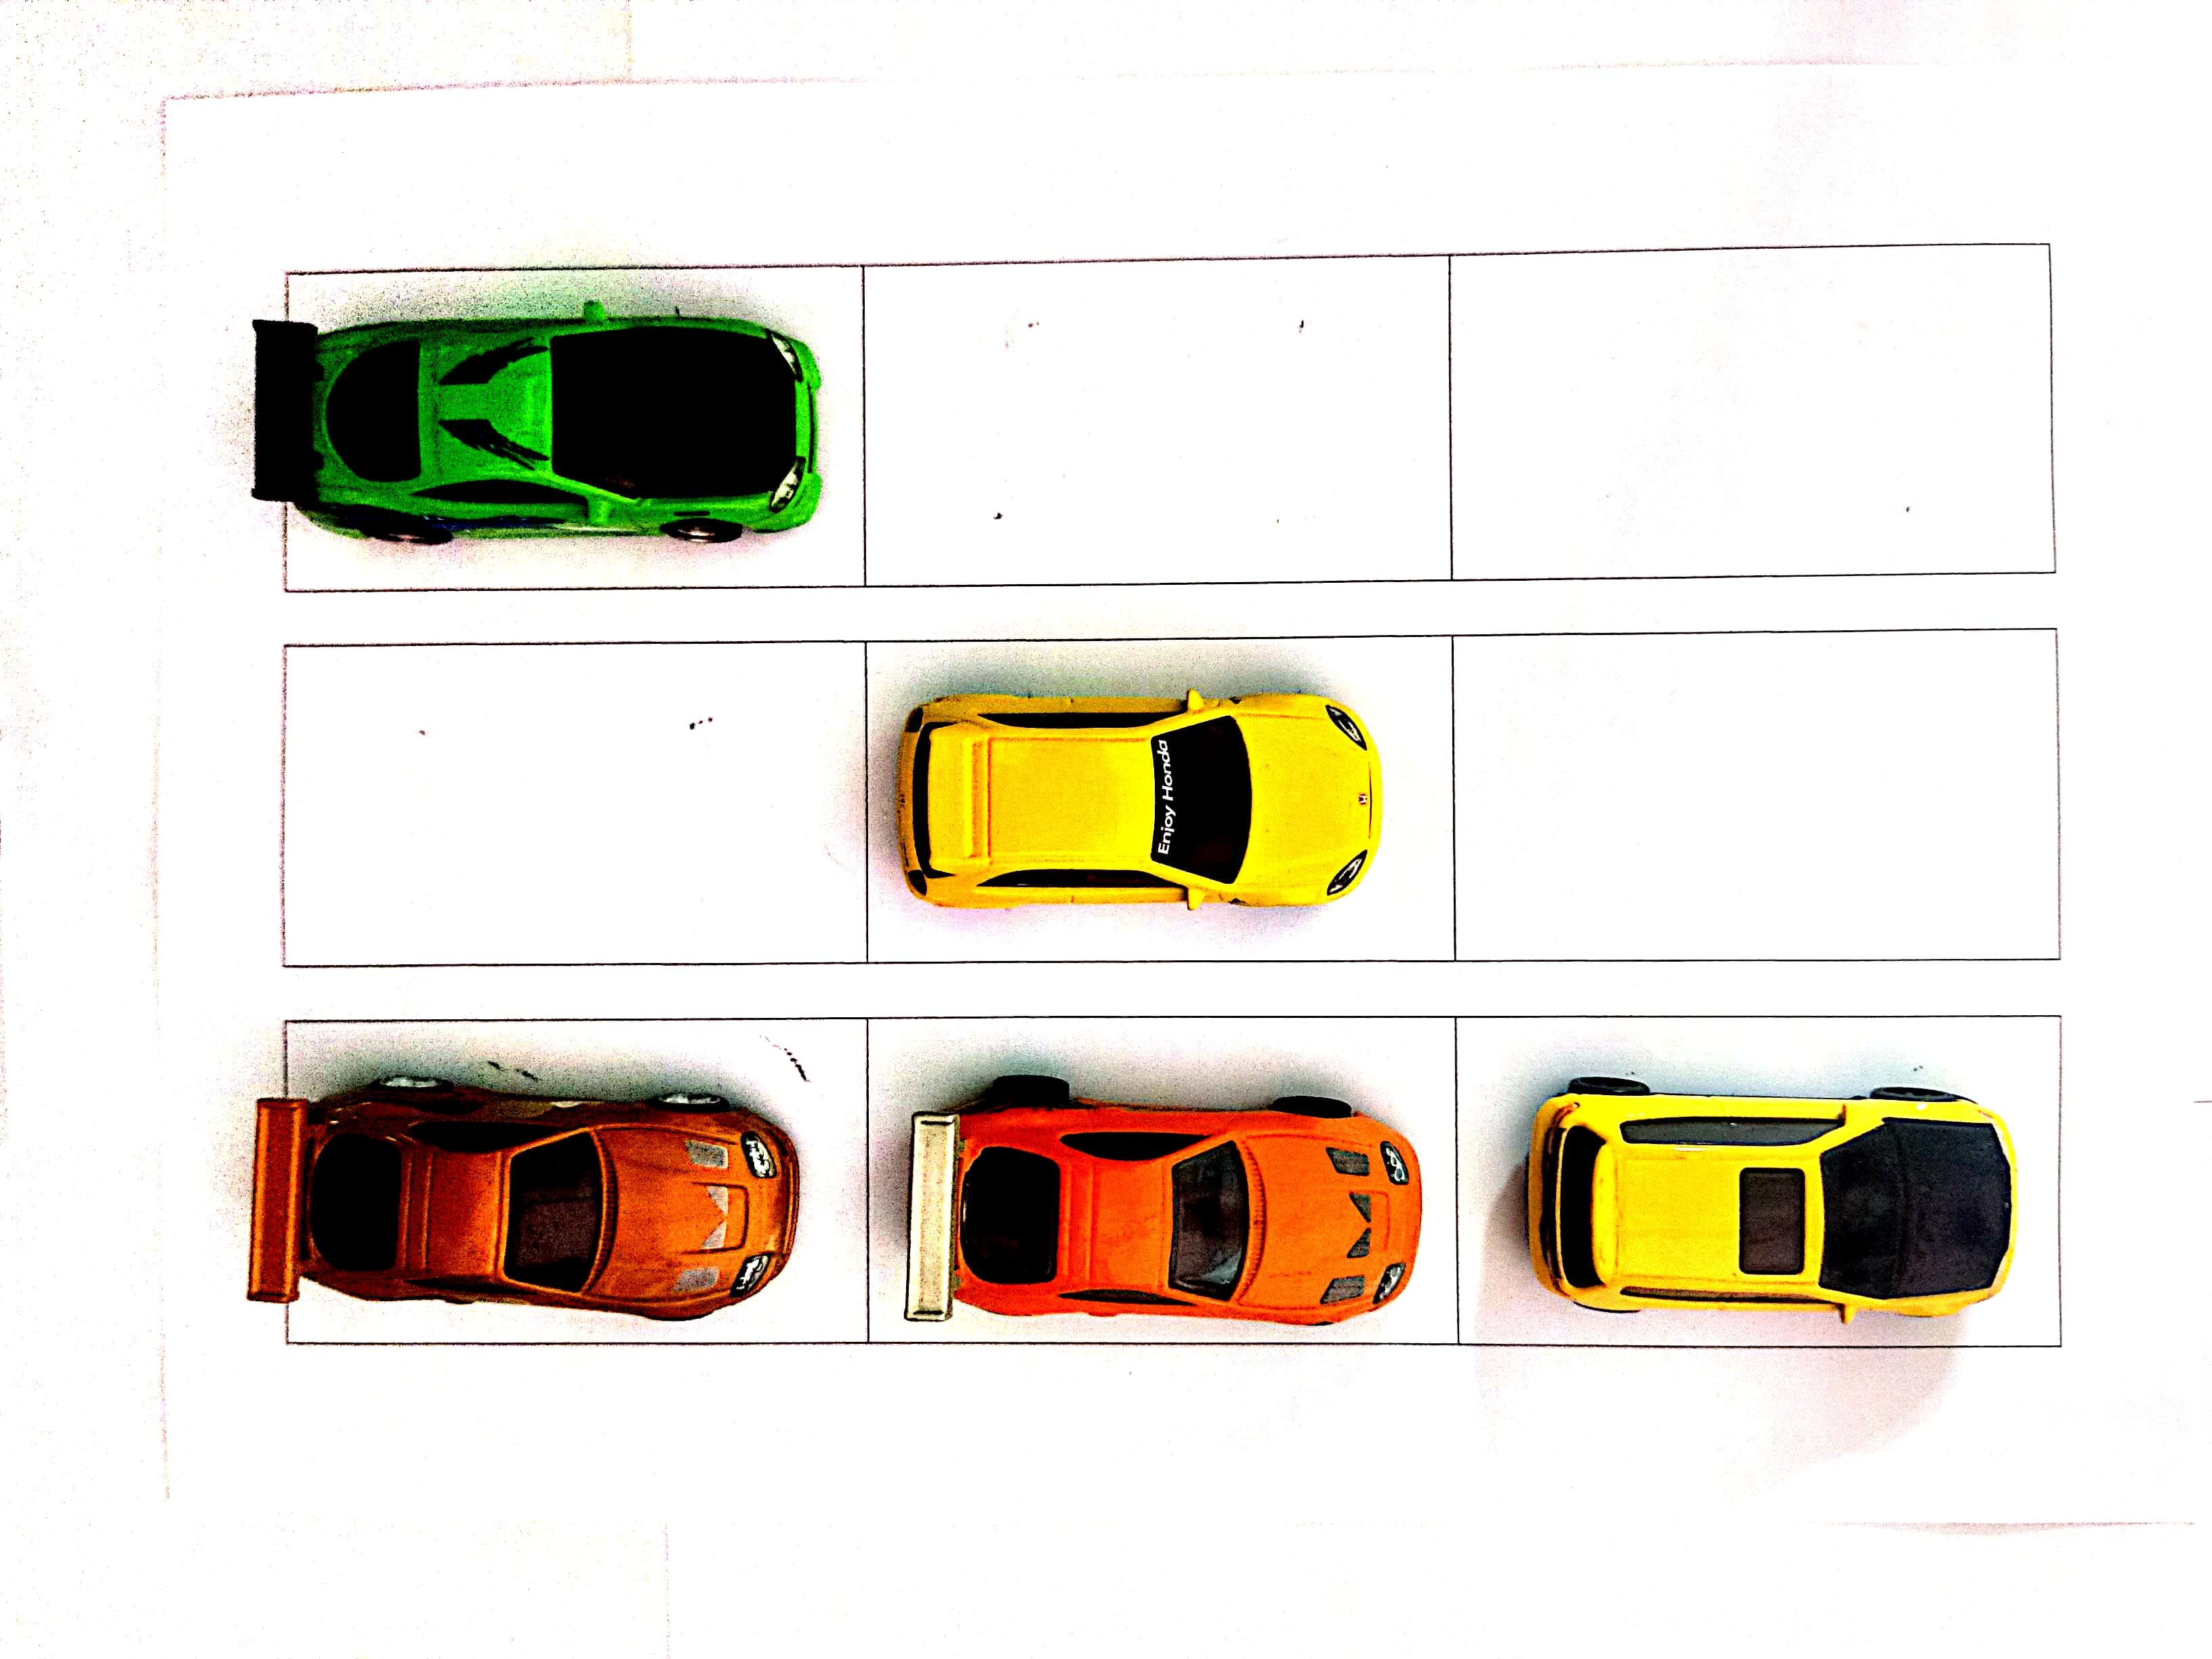Busy: (1460, 1011, 2054, 1340), (871, 1019, 1458, 1342), (871, 633, 1449, 955), (279, 1028, 869, 1340), (287, 267, 857, 584)
Free: (1451, 246, 2054, 577), (1449, 636, 2059, 958), (286, 640, 869, 967), (866, 263, 1451, 580)
